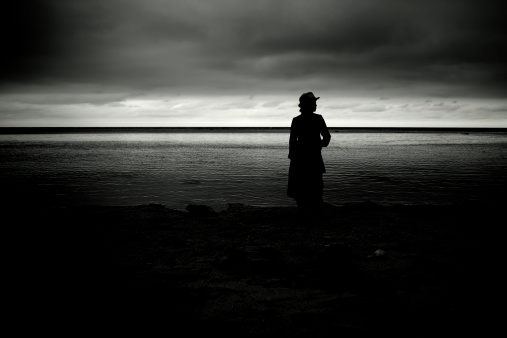em pe: (281, 90, 328, 224)
